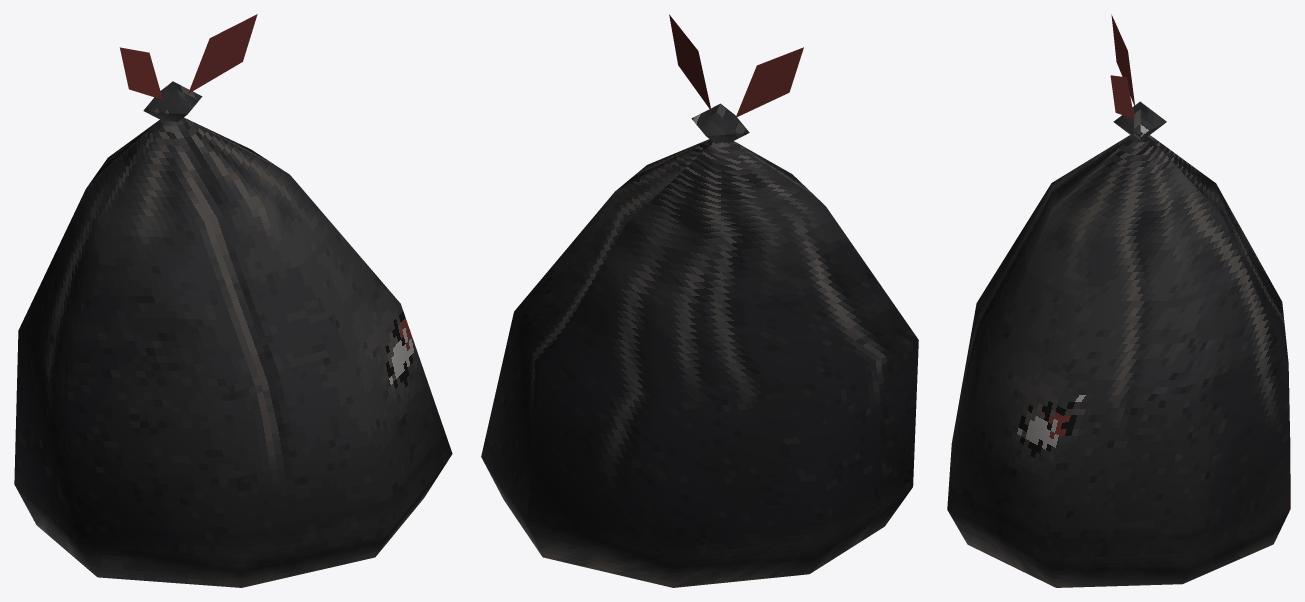
The model's file is SM_Motel_TrashBag.glb.
3 views of the same model, side by side, from view 1: azimuth 30°, elevation 25°; view 2: azimuth 150°, elevation 25°; view 3: azimuth 270°, elevation 25° (orthographic). The views are drawn at different scales.
Visible parts, largest first — view 1: SM_Motel_TrashBag; view 2: SM_Motel_TrashBag; view 3: SM_Motel_TrashBag.
Part boxes in pixels (x1=…): SM_Motel_TrashBag: x1=14, y1=14, x2=452, y2=587; SM_Motel_TrashBag: x1=481, y1=14, x2=918, y2=587; SM_Motel_TrashBag: x1=947, y1=14, x2=1290, y2=587.
Size of what is drawn, in the model's own units: 0.4632 by 0.5741 by 0.3954.
1 material, 1 textured.
